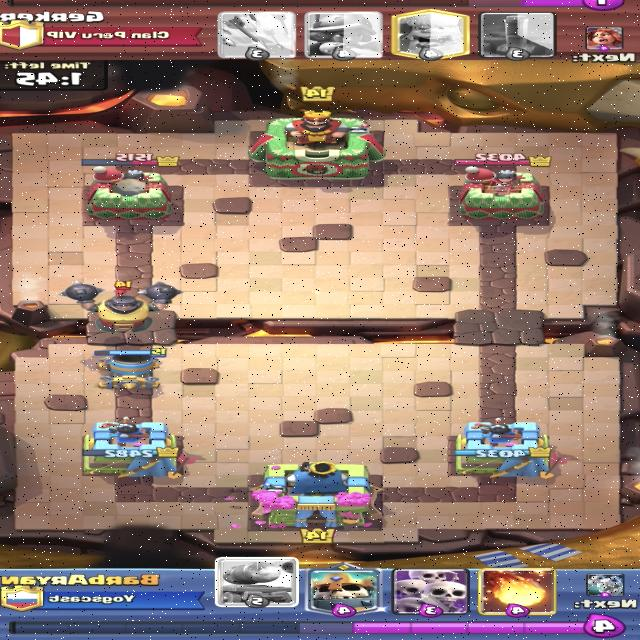Enemy-MegaKnight: (61, 280, 182, 332)
Player-Mortar: (94, 347, 168, 391)
